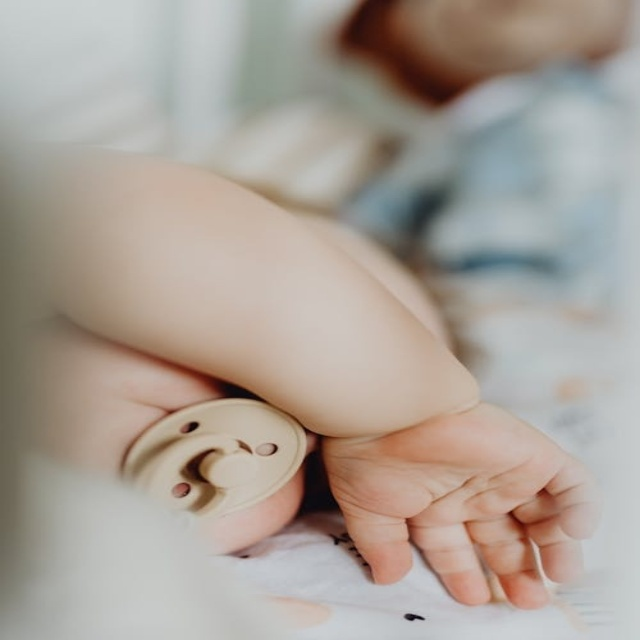Sin_guantes: (320, 393, 602, 608)
